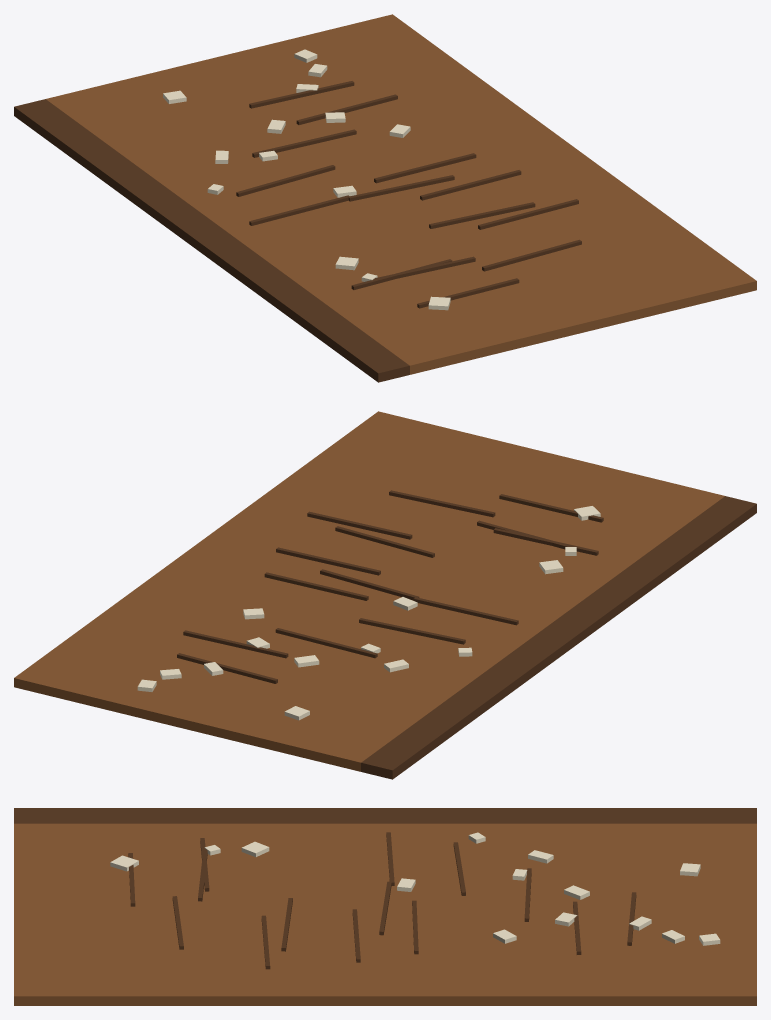
File: env_r13_verge.glb
3 renders of one model, top to bottom at view 1: azimuth 30°, elevation 25°; view 2: azimuth 150°, elevation 25°; view 3: azimuth 270°, elevation 25°, orthographic.
Visible parts, largest first — view 1: env_r13_verge; view 2: env_r13_verge; view 3: env_r13_verge.
Boxes of the visible parts, x1,y1,x2,y2 form: env_r13_verge: [14, 14, 756, 382]; env_r13_verge: [14, 411, 756, 779]; env_r13_verge: [14, 808, 756, 1005].
Size of the model in its own units: 6 by 0.2 by 10.
Materials: 1 (1 with a texture image).
